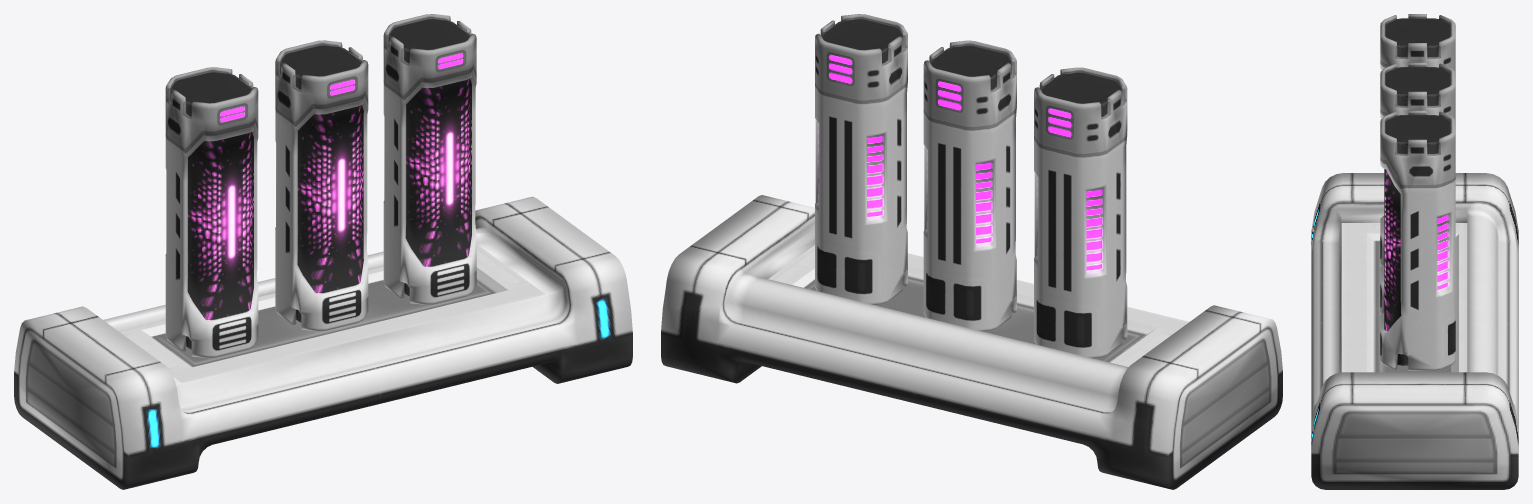
The model's file is LabTubes02_4.FBX.
The picture shows the model from 3 angles, left to right: view 1: azimuth 30°, elevation 25°; view 2: azimuth 150°, elevation 25°; view 3: azimuth 270°, elevation 25°; orthographic projection. The views are drawn at different scales.
Visible parts, largest first — view 1: LabTubes02_4; view 2: LabTubes02_4; view 3: LabTubes02_4.
Part boxes in pixels (x1=…): LabTubes02_4: x1=14, y1=14, x2=632, y2=489; LabTubes02_4: x1=661, y1=14, x2=1282, y2=489; LabTubes02_4: x1=1311, y1=14, x2=1518, y2=489.
Size of what is drawn, in the model's own units: 0.6387 by 0.4007 by 0.2502.
